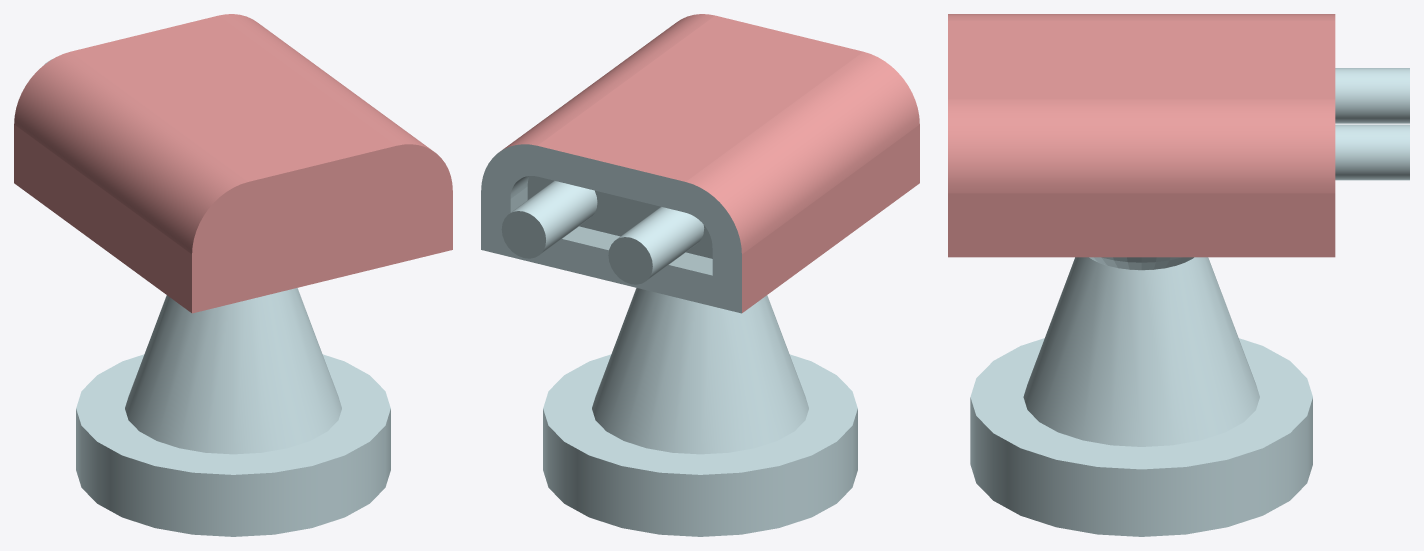
3 views of the same model, side by side, from view 1: azimuth 30°, elevation 25°; view 2: azimuth 150°, elevation 25°; view 3: azimuth 270°, elevation 25° (orthographic). The views are drawn at different scales.
Parts seen in each view (by area): view 1: weapon_blaster, weapon_blaster_base; view 2: weapon_blaster, weapon_blaster_base; view 3: weapon_blaster, weapon_blaster_base.
Boxes of the visible parts, <box> form: weapon_blaster: <box>14,14,452,313</box>; weapon_blaster_base: <box>76,288,390,536</box>; weapon_blaster: <box>481,14,919,313</box>; weapon_blaster_base: <box>543,288,857,536</box>; weapon_blaster: <box>948,14,1409,257</box>; weapon_blaster_base: <box>970,257,1312,536</box>.
Bounding box in the file's own units: 22.99 × 29.97 × 31.
